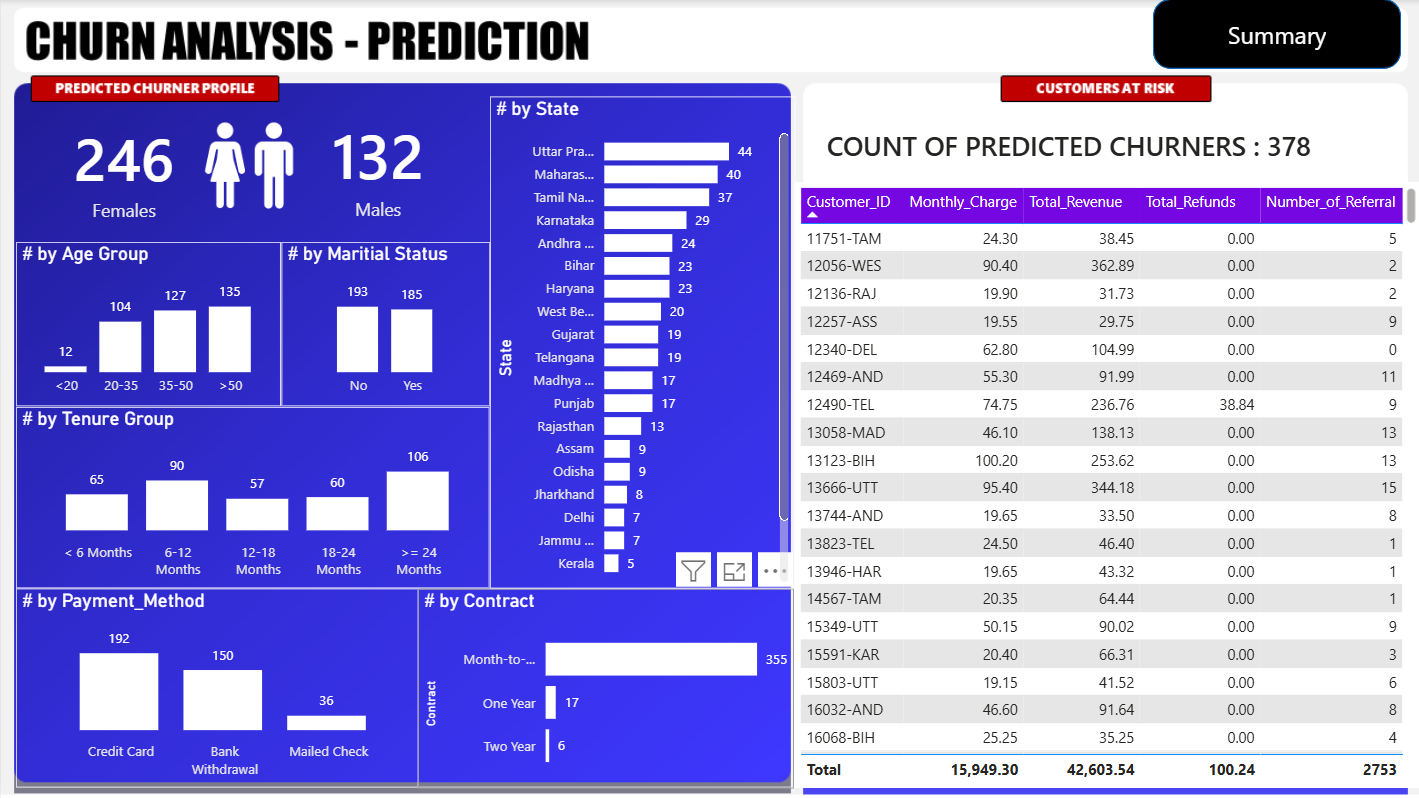

This screenshot's page, from the dashboard's own definition file:
{"tool":"powerbi","page":{"name":"Churn Prediction","canvas":[1280,720],"ordinal":2},"visuals":[{"type":"tableEx","fields":{"Values":["Predictions.Customer_ID","Sum(Predictions.Monthly_Charge)","Sum(Predictions.Total_Revenue)","Sum(Predictions.Total_Refunds)","Sum(Predictions.Number_of_Referrals)"]},"box":[715.3,164.8,565.3,545.5],"z":0},{"type":"cardVisual","fields":{"Data":["tbl_Measures.Title Predicted Churners"]},"box":[715.3,87.3,547.2,84.1],"z":1000},{"type":"cardVisual","fields":{"Data":["tbl_Measures.Count Predicted Churner"]},"box":[24.7,87.3,173,131.8],"z":2000},{"type":"cardVisual","fields":{"Data":["tbl_Measures.Count Predicted Churner"]},"box":[252.2,84.1,174.7,135.1],"z":3000},{"type":"clusteredColumnChart","title":"# by Age Group","fields":{"Category":["Mapping_AgeGrp.Age Group"],"Y":["CountNonNull(Predictions.Customer_ID)"]},"box":[13.2,219.2,239,148.3],"z":4000},{"type":"clusteredColumnChart","title":"# by Maritial Status","fields":{"Y":["CountNonNull(Predictions.Customer_ID)"],"Category":["Predictions.Married"]},"box":[252.2,219.2,187.9,148.3],"z":5000},{"type":"clusteredColumnChart","title":"# by Payment_Method","fields":{"Y":["CountNonNull(Predictions.Customer_ID)"],"Category":["Predictions.Payment_Method"]},"box":[13.2,530.7,362.6,179.6],"z":6000},{"type":"clusteredColumnChart","title":"# by Tenure Group ","fields":{"Y":["CountNonNull(Predictions.Customer_ID)"],"Category":["Mapping_TenureGrp.Tenure Group "]},"box":[13.2,367.5,426.9,163.2],"z":7000},{"type":"clusteredBarChart","title":"# by Contract","fields":{"Category":["Predictions.Contract"],"Y":["CountNonNull(Predictions.Customer_ID)"]},"box":[375.8,530.7,339.5,179.6],"z":8000},{"type":"clusteredBarChart","title":"# by State","fields":{"Y":["CountNonNull(Predictions.Customer_ID)"],"Category":["Predictions.State"]},"box":[440,87.3,275.2,443.3],"z":9000},{"type":"image","box":[131,100.5,184.6,98.9],"z":10000},{"type":"shape","box":[1056.4,0,224.1,62.6],"z":11000}]}

Visuals, with their boxes in screenshot pixels (x1, y1, x2, y2), scaled from the page's 1280x720 canvas onto the 1419x798 screenshot:
tableEx - Predictions.Customer_ID x Sum(Predictions.Monthly_Charge): {"x1": 793, "y1": 183, "x2": 1418, "y2": 787}
cardVisual - tbl_Measures.Title Predicted Churners: {"x1": 793, "y1": 97, "x2": 1400, "y2": 190}
cardVisual - tbl_Measures.Count Predicted Churner: {"x1": 27, "y1": 97, "x2": 219, "y2": 243}
cardVisual - tbl_Measures.Count Predicted Churner: {"x1": 280, "y1": 93, "x2": 473, "y2": 243}
"# by Age Group" clusteredColumnChart: {"x1": 15, "y1": 243, "x2": 280, "y2": 407}
"# by Maritial Status" clusteredColumnChart: {"x1": 280, "y1": 243, "x2": 488, "y2": 407}
"# by Payment_Method" clusteredColumnChart: {"x1": 15, "y1": 588, "x2": 417, "y2": 787}
"# by Tenure Group " clusteredColumnChart: {"x1": 15, "y1": 407, "x2": 488, "y2": 588}
"# by Contract" clusteredBarChart: {"x1": 417, "y1": 588, "x2": 793, "y2": 787}
"# by State" clusteredBarChart: {"x1": 488, "y1": 97, "x2": 793, "y2": 588}
image: {"x1": 145, "y1": 111, "x2": 350, "y2": 221}
shape: {"x1": 1171, "y1": 0, "x2": 1418, "y2": 69}
